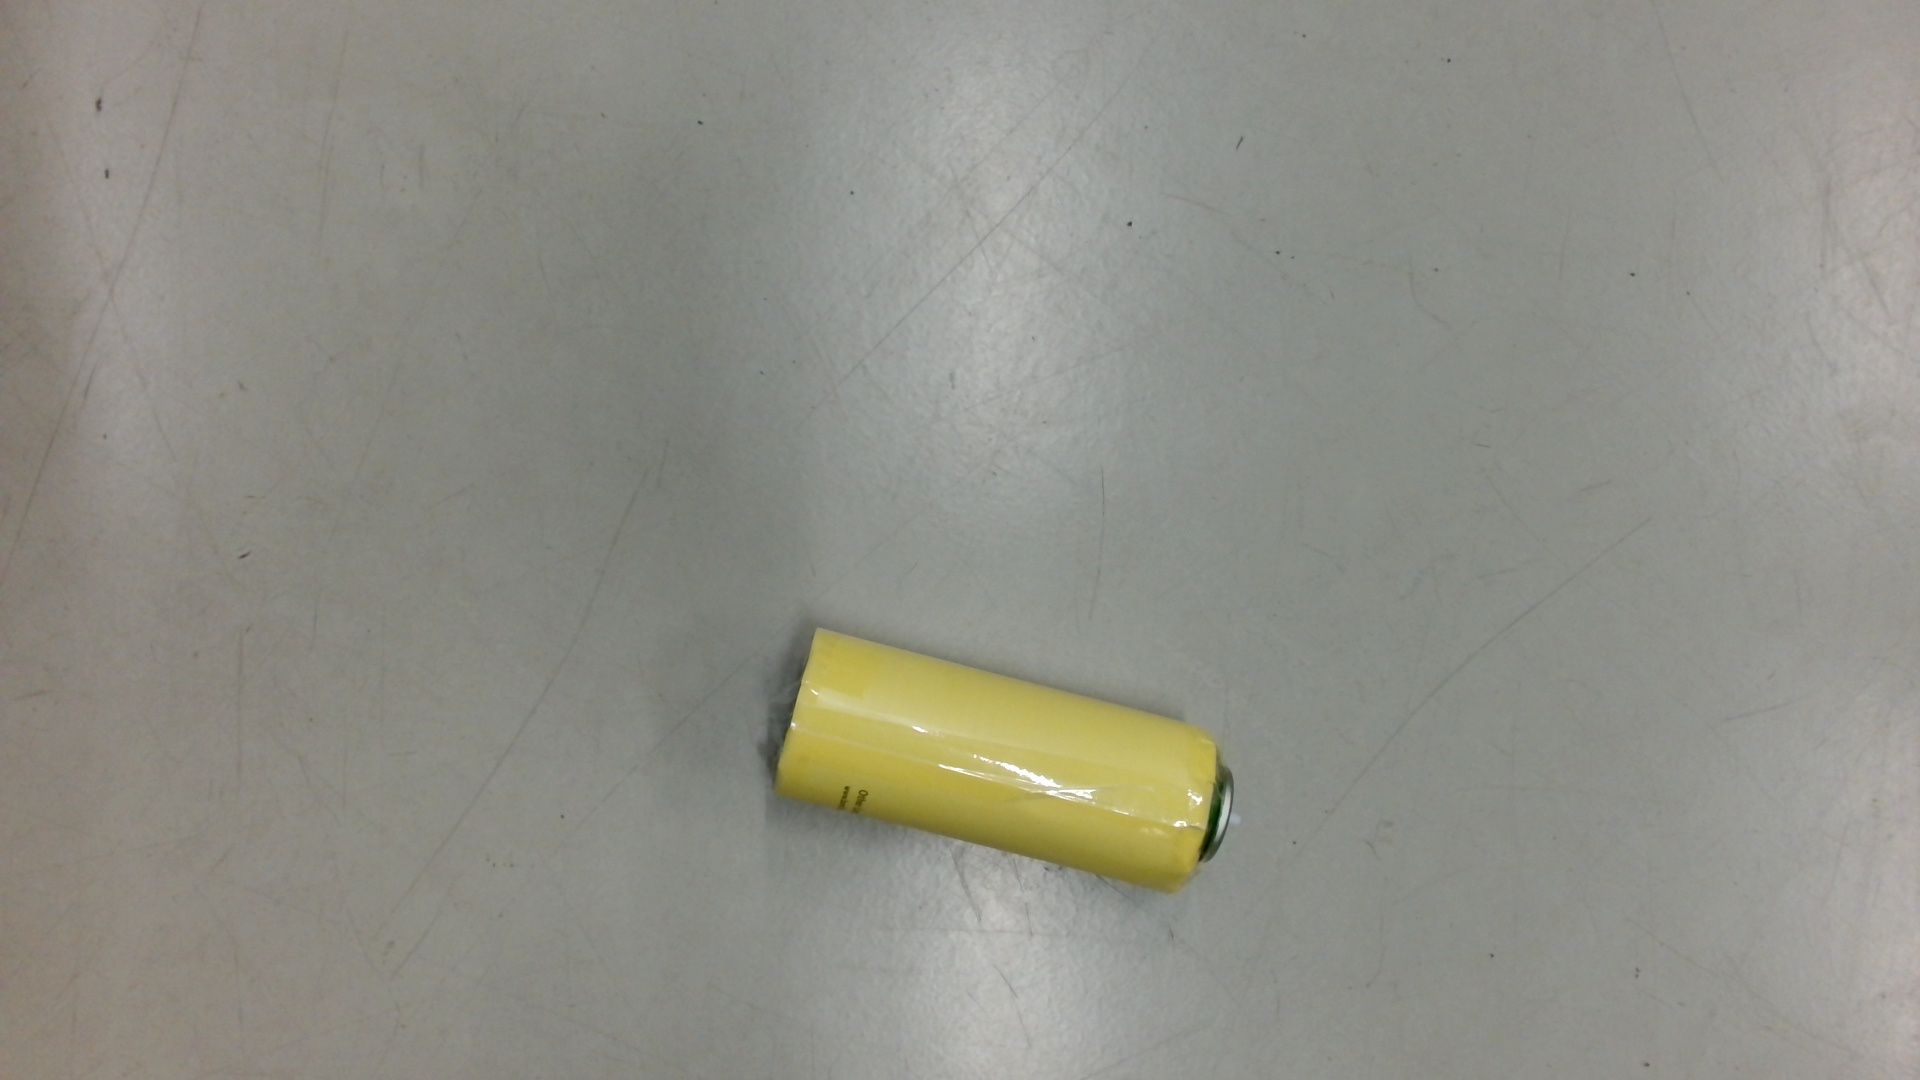Cylinder: (757, 615, 1255, 909)
